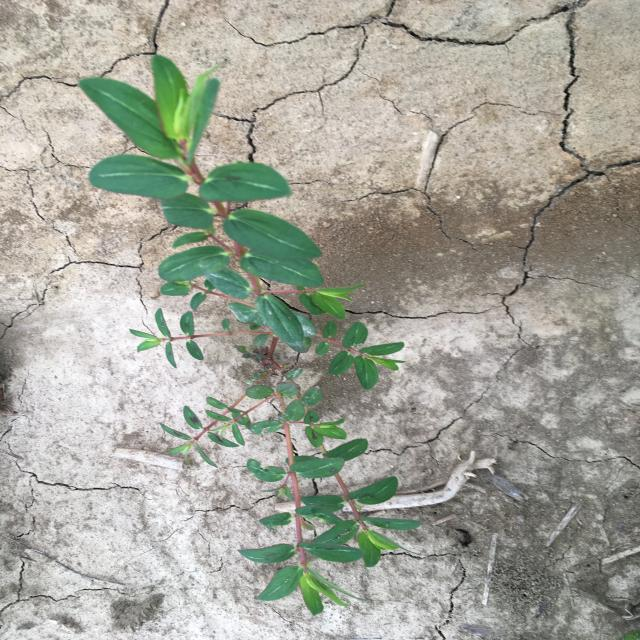SpottedSpurge: (78, 55, 422, 616)
